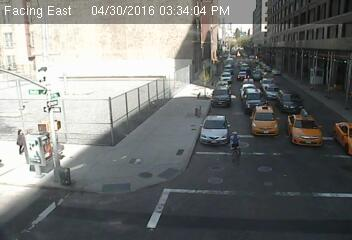neg: (223, 130, 247, 162), (126, 151, 141, 171), (191, 102, 204, 118), (176, 144, 186, 158)
pos: (8, 126, 30, 155)
